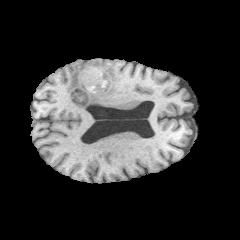glioma: (67, 61, 120, 109)
